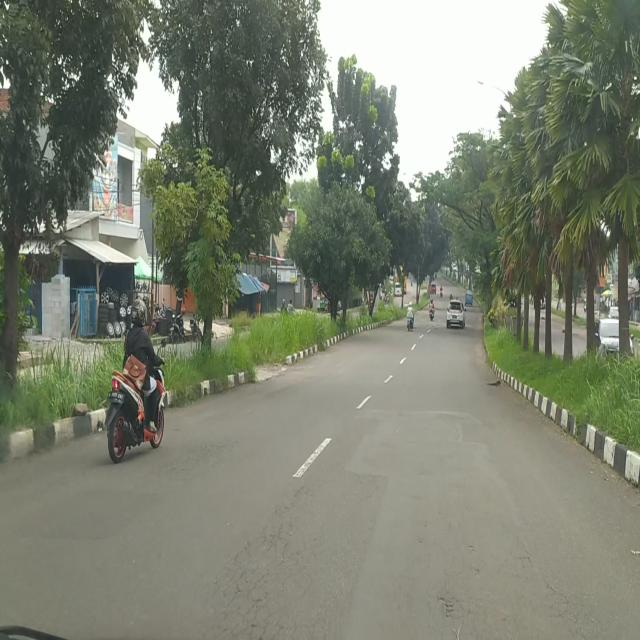Drain Hole: (210, 488, 323, 636)
